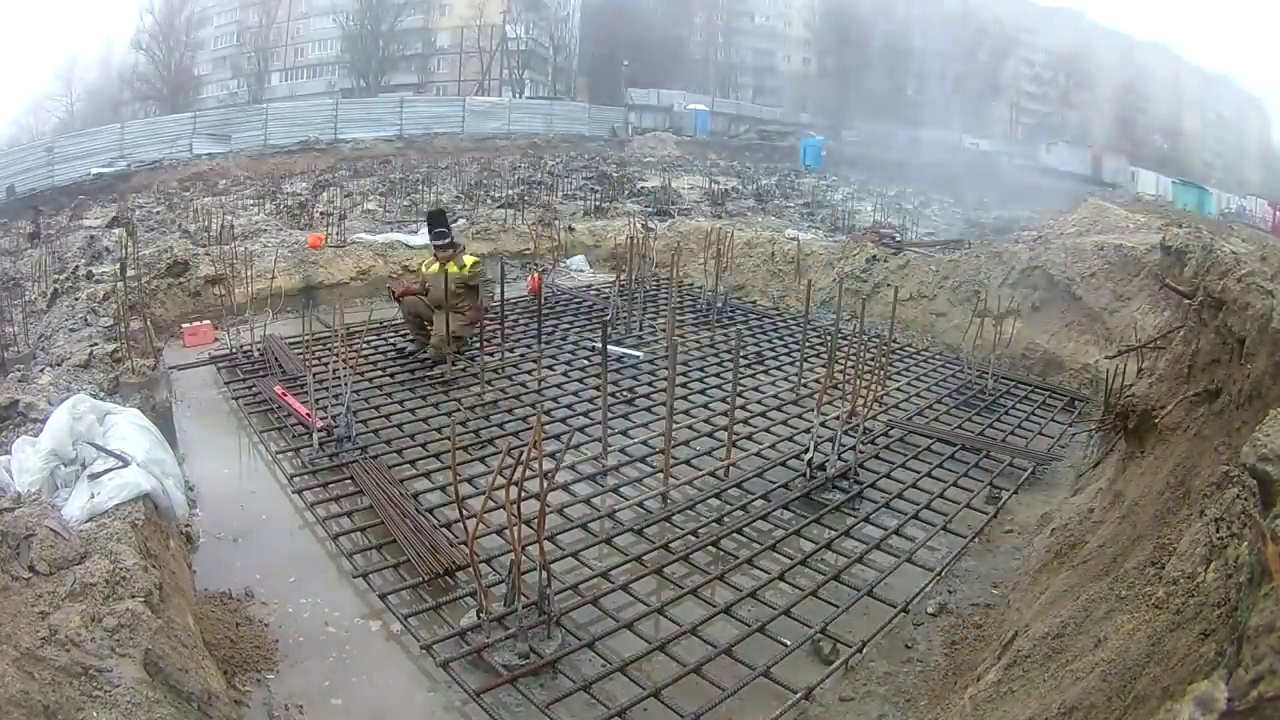helmet: (525, 269, 545, 302), (304, 230, 326, 251)
helmet-off: (421, 212, 458, 266)
person: (395, 207, 483, 373)
